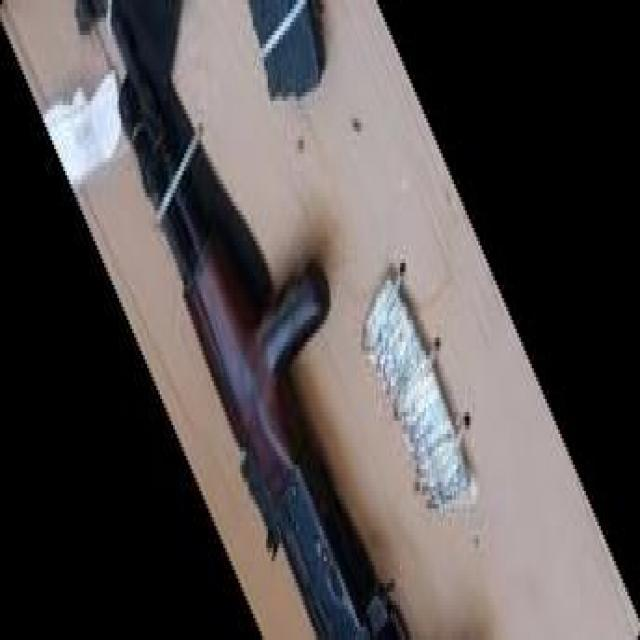weapon: (75, 2, 408, 640)
